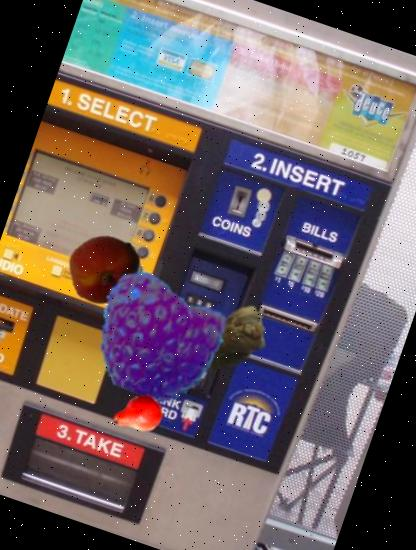Ginger: (152, 276, 283, 406)
Nectarine: (57, 222, 150, 316)
Pear: (105, 380, 170, 445)
Raspberry: (78, 259, 236, 418)
